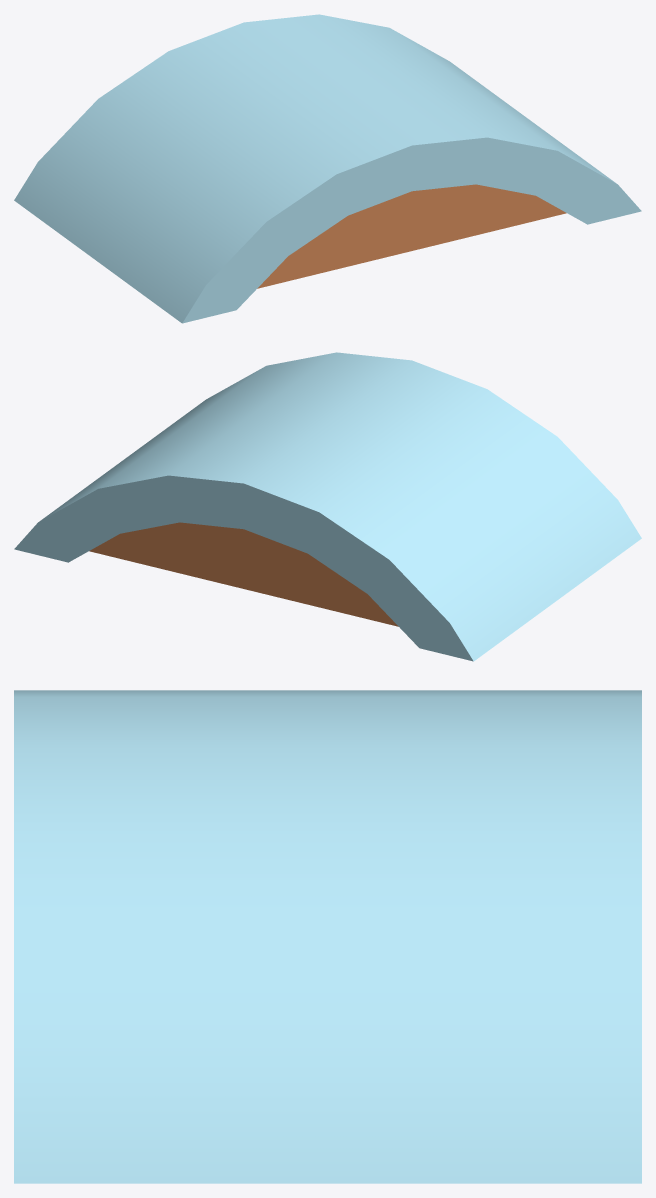
File: blockSnowCurveLow.glb
3 views of the same model, one above another, from view 1: azimuth 30°, elevation 25°; view 2: azimuth 150°, elevation 25°; view 3: azimuth 270°, elevation 25° (orthographic). The views are drawn at different scales.
Visible parts, largest first — view 1: blockSnowCurveLow; view 2: blockSnowCurveLow; view 3: blockSnowCurveLow.
Boxes of the visible parts, left/top/right/bottom form: blockSnowCurveLow: left=14, top=14, right=641, bottom=323; blockSnowCurveLow: left=14, top=352, right=641, bottom=661; blockSnowCurveLow: left=14, top=690, right=641, bottom=1183.
Size of the model in its own units: 1.58 by 0.4 by 1.
